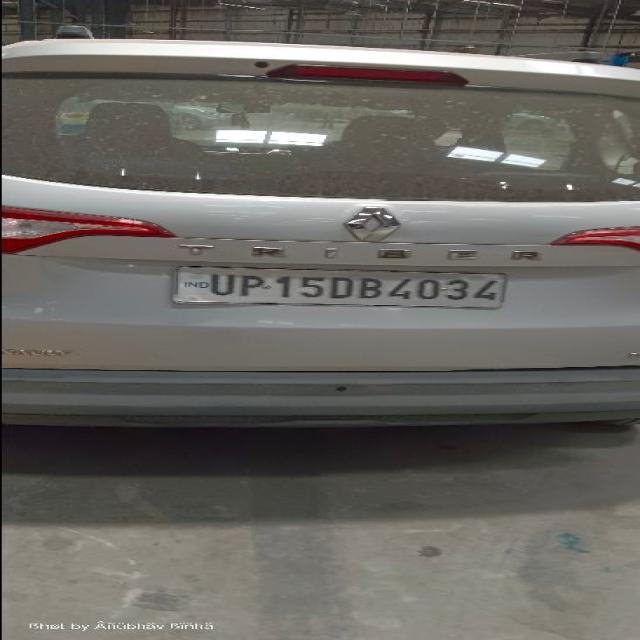license_plate: (169, 264, 508, 308)
